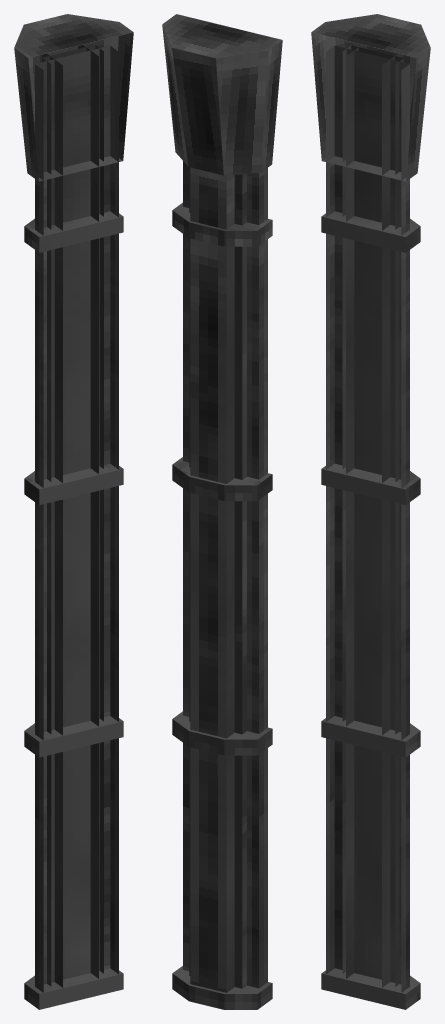
The model's file is MDL_Pillar_Upper.glb.
The picture shows the model from 3 angles, left to right: view 1: azimuth 30°, elevation 25°; view 2: azimuth 150°, elevation 25°; view 3: azimuth 330°, elevation 25°; orthographic projection.
Parts seen in each view (by area): view 1: UpperPillar; view 2: UpperPillar; view 3: UpperPillar.
Boxes of the visible parts, x1=… form: UpperPillar: x1=14, y1=14, x2=133, y2=1009; UpperPillar: x1=162, y1=14, x2=282, y2=1009; UpperPillar: x1=311, y1=14, x2=430, y2=1009.
Bounding box in the file's own units: 0.4375 × 3.78 × 0.2572.
1 material, 1 textured.
